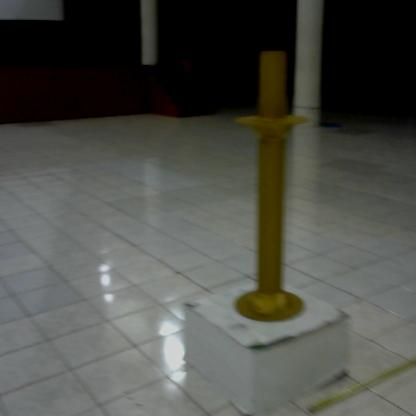pole: (229, 40, 314, 333)
